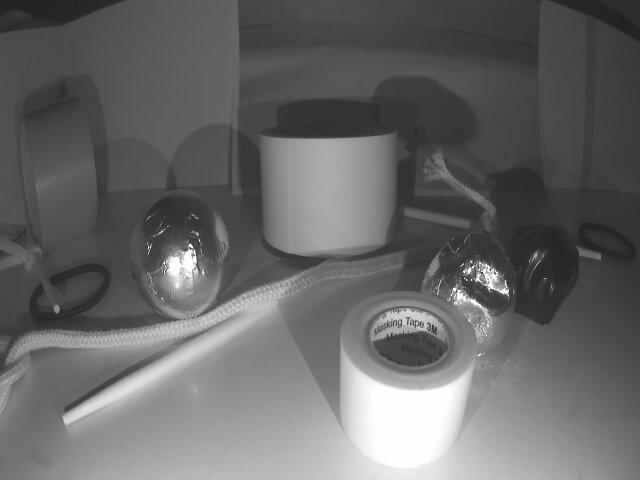Dead: (503, 227, 578, 324)
Live: (133, 193, 229, 320), (427, 236, 512, 354)
